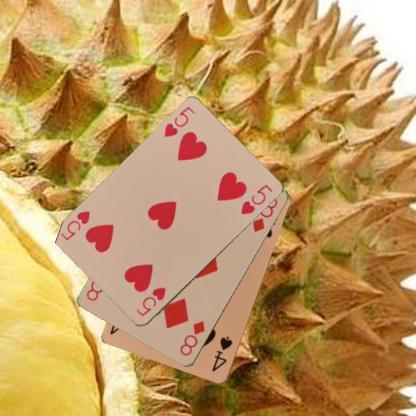4s: (209, 334, 234, 374)
5h: (162, 104, 197, 139), (133, 284, 167, 318)
8d: (177, 318, 207, 358)
